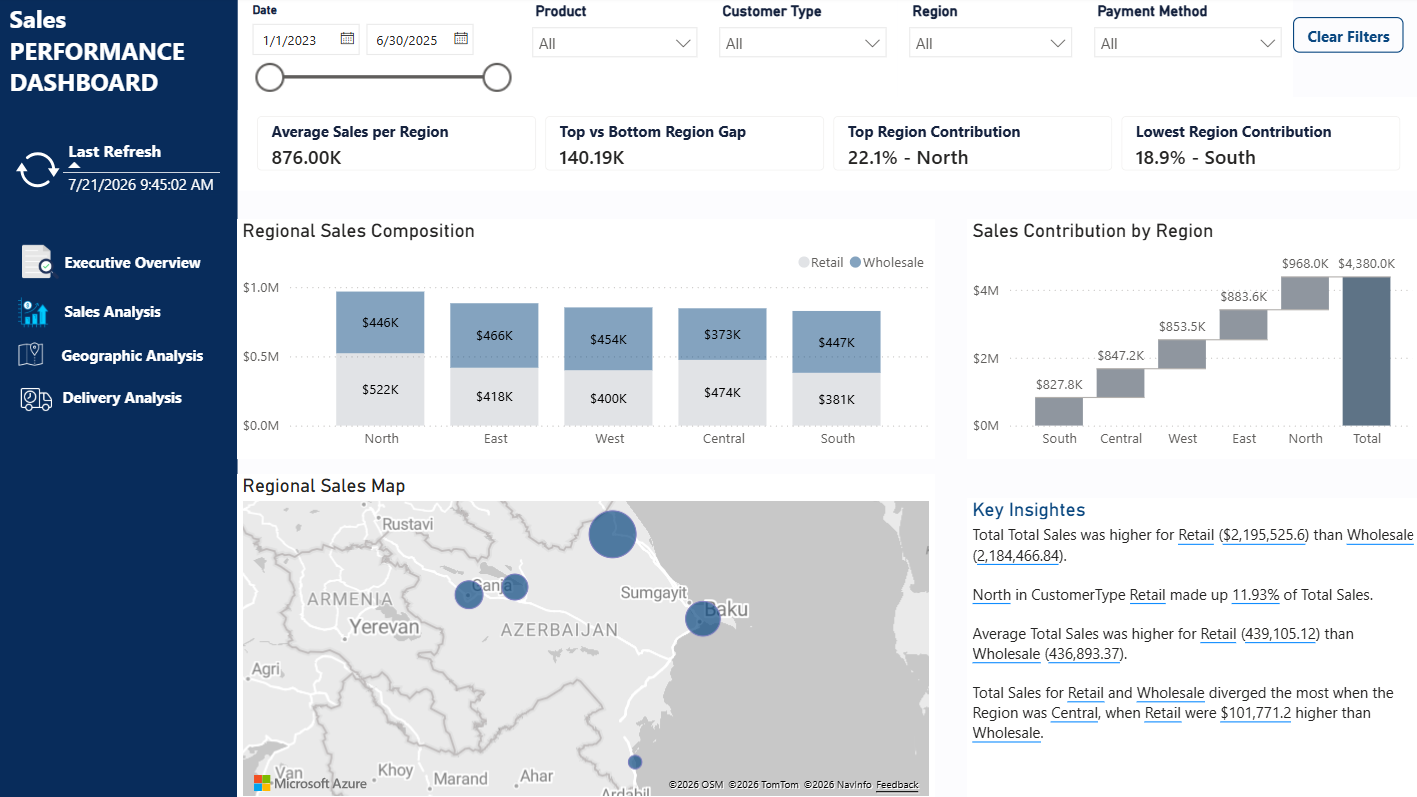

This screenshot's page, from the dashboard's own definition file:
{"tool":"powerbi","page":{"name":"Geographic Analysis","canvas":[1280,720],"ordinal":2},"visuals":[{"type":"group","id":"g1","title":"Navigation Panel","box":[0,0,219,720],"z":0},{"type":"shape","box":[0,0,219,720],"z":0,"group":"g1"},{"type":"slicer","fields":{"Values":["Data.Date"]},"box":[219,0,253,90],"z":0,"group":"g2"},{"type":"textbox","box":[10,0,208.8,101.2],"z":1000,"group":"g1"},{"type":"group","id":"g2","title":"Slicers","box":[219,0,945,90],"z":1000},{"type":"slicer","fields":{"Values":["Data.Region"]},"box":[810,0,166,90],"z":1000,"group":"g2"},{"type":"slicer","fields":{"Values":["Data.Product"]},"box":[472,0,168,90],"z":2000,"group":"g2"},{"type":"waterfallChart","title":"Sales Contribution by Region","fields":{"Y":["#DAX.Total Sales"],"Category":["Data.Region"]},"box":[872.5,198.8,407.5,215],"z":2000},{"type":"slicer","fields":{"Values":["Data.CustomerType"]},"box":[640,0,170,90],"z":3000,"group":"g2"},{"type":"cardVisual","fields":{"Data":["#DAX.Average Sales per Region","#DAX.Regional Sales Variance","#DAX.Top Region Share %","#DAX.Lowest Region Contribution"]},"box":[219.3,89.9,1060.7,83.9],"z":3000},{"type":"slicer","fields":{"Values":["Data.PaymentMethod"]},"box":[976,0,188,90],"z":4000,"group":"g2"},{"type":"columnChart","title":"Regional Sales Composition","fields":{"Category":["Data.Region"],"Series":["Data.CustomerType"],"Y":["#DAX.Total Sales"]},"box":[218.8,198.8,625,215],"z":4000},{"type":"azureMap","title":"Regional Sales Map","fields":{"Y":["Coordinates.Latitude"],"X":["Coordinates.Longitude"],"Size":["#DAX.Total Sales"]},"box":[218.8,427.5,625,292.5],"z":5000},{"type":"textbox","title":"Key Insightes","box":[872.5,448.8,407.5,271.2],"z":6000},{"type":"actionButton","title":"Clear Filters","box":[1180,17.5,100,32.5],"z":7000},{"type":"tableEx","fields":{"Values":["Last Refresh.Last Refresh"]},"box":[56.3,121.2,163,67.8],"z":8000},{"type":"actionButton","box":[60,224.5,139.1,27.3],"z":17000,"group":"g1"},{"type":"actionButton","box":[60,269.1,94.5,27.3],"z":18000,"group":"g1"},{"type":"actionButton","box":[56.9,307.7,149.2,25.4],"z":19000,"group":"g1"},{"type":"actionButton","box":[58.5,345.7,140.1,31.2],"z":21000,"group":"g1"},{"type":"image","box":[26.4,208.2,32.7,59.1],"z":22000,"group":"g1"},{"type":"image","box":[22.7,267.3,27.3,30.9],"z":23000,"group":"g1"},{"type":"image","box":[10.8,306.2,46.2,28.5],"z":24000,"group":"g1"},{"type":"image","box":[10.1,345.7,57.4,28.2],"z":25000,"group":"g1"},{"type":"image","box":[20.9,135.5,39.1,39.1],"z":26000,"group":"g1"}]}

Visuals, with their boxes on the page's 1280x720 design canvas (x1, y1, x2, y2). These are canvas units, not pixel positions in the 1417x797 screenshot, which may show the page scaled, cropped or inside an application window:
"Navigation Panel" group: left=0, top=0, right=219, bottom=720
shape: left=0, top=0, right=219, bottom=720
slicer - Data.Date: left=219, top=0, right=472, bottom=90
textbox: left=10, top=0, right=219, bottom=101
"Slicers" group: left=219, top=0, right=1164, bottom=90
slicer - Data.Region: left=810, top=0, right=976, bottom=90
slicer - Data.Product: left=472, top=0, right=640, bottom=90
"Sales Contribution by Region" waterfallChart: left=872, top=199, right=1280, bottom=414
slicer - Data.CustomerType: left=640, top=0, right=810, bottom=90
cardVisual - #DAX.Average Sales per Region x #DAX.Regional Sales Variance: left=219, top=90, right=1280, bottom=174
slicer - Data.PaymentMethod: left=976, top=0, right=1164, bottom=90
"Regional Sales Composition" columnChart: left=219, top=199, right=844, bottom=414
"Regional Sales Map" azureMap: left=219, top=428, right=844, bottom=720
"Key Insightes" textbox: left=872, top=449, right=1280, bottom=720
"Clear Filters" actionButton: left=1180, top=18, right=1280, bottom=50
tableEx - Last Refresh.Last Refresh: left=56, top=121, right=219, bottom=189
actionButton: left=60, top=224, right=199, bottom=252
actionButton: left=60, top=269, right=154, bottom=296
actionButton: left=57, top=308, right=206, bottom=333
actionButton: left=58, top=346, right=199, bottom=377
image: left=26, top=208, right=59, bottom=267
image: left=23, top=267, right=50, bottom=298
image: left=11, top=306, right=57, bottom=335
image: left=10, top=346, right=68, bottom=374
image: left=21, top=136, right=60, bottom=175
